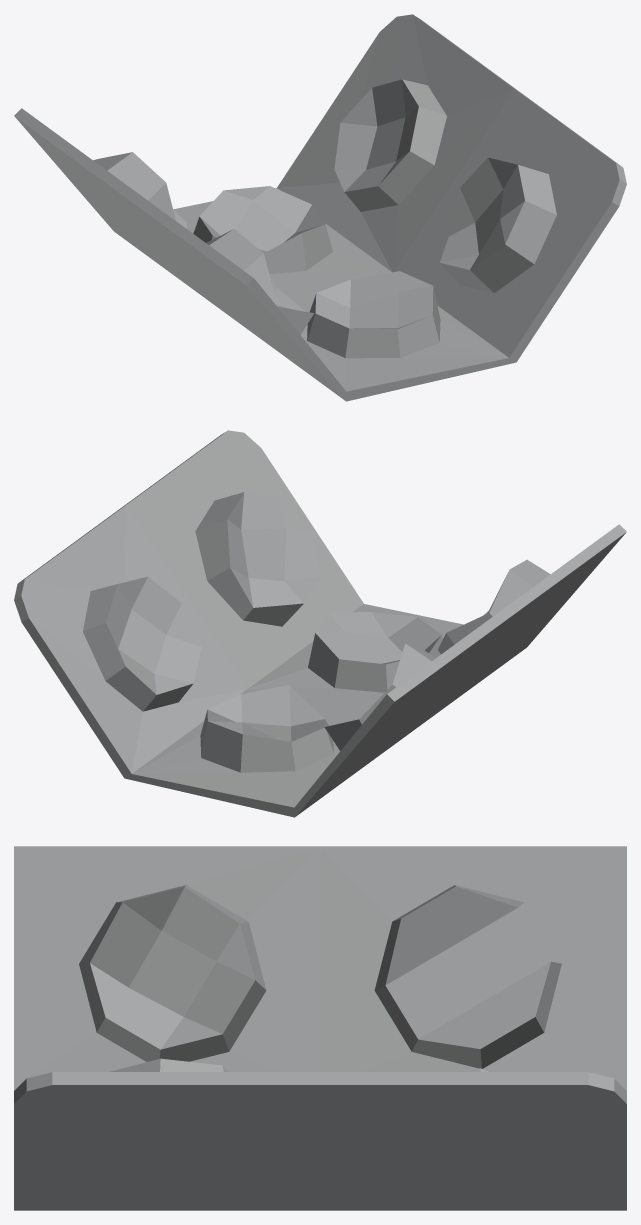
The model's file is PillsBlisterEmpty2.fbx.
3 views of the same model, one above another, from view 1: azimuth 30°, elevation 25°; view 2: azimuth 150°, elevation 25°; view 3: azimuth 270°, elevation 25° (orthographic). The views are drawn at different scales.
Parts seen in each view (by area): view 1: Cube; view 2: Cube; view 3: Cube.
Part boxes in pixels (<box>): Cube: <box>14,14,626,401</box>; Cube: <box>14,430,626,817</box>; Cube: <box>14,846,626,1210</box>.
Size of the model in its own units: 196 by 76.78 by 201.
